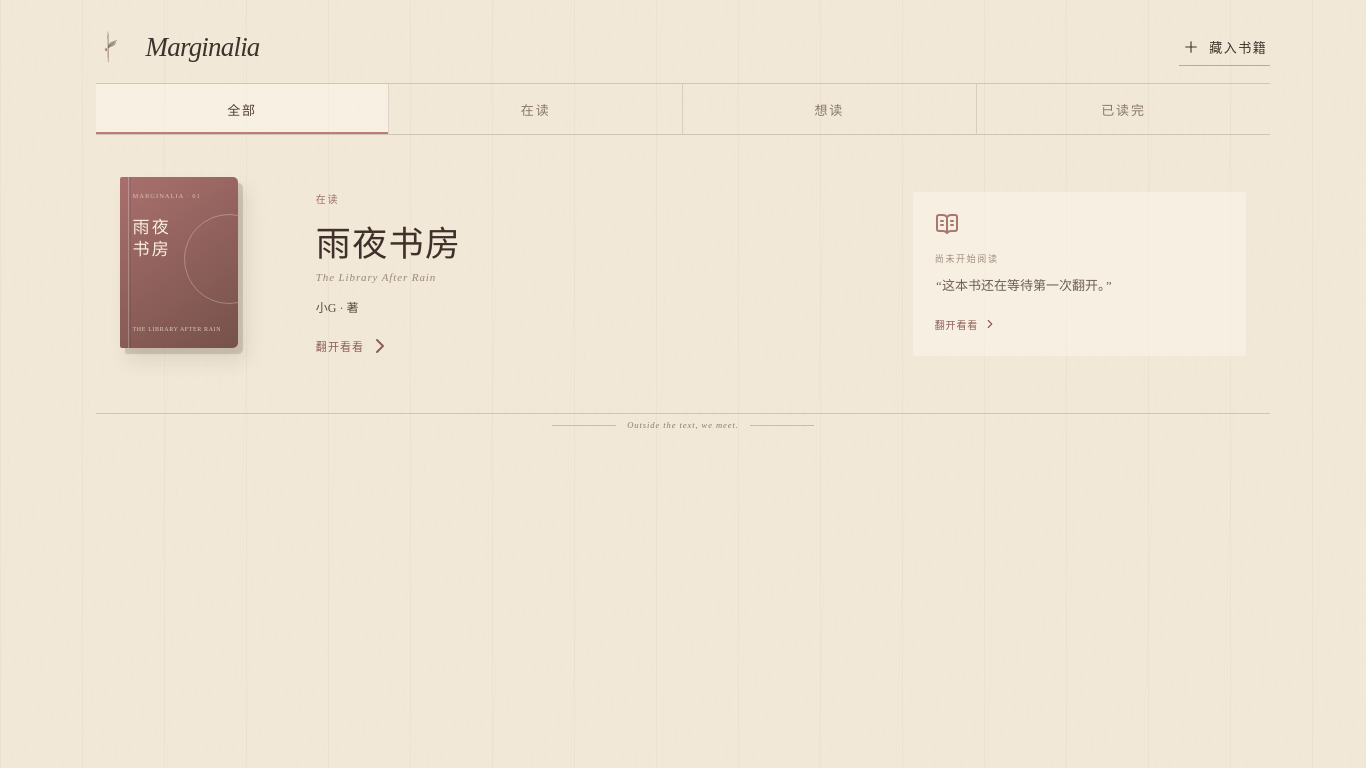
Test: Marginalia visual prototype › opens a book room from the cover and continues into the reader
Expected: the button with aria-label "打开《雨夜书房》" is shown, [316,184,849,364]
Expected: the text "Outside the text, we meet." is shown, [627,420,739,430]
Click the button with aria-label "查看《雨夜书房》的书籍档案". click: [186, 274]
box: [120,177,252,371]
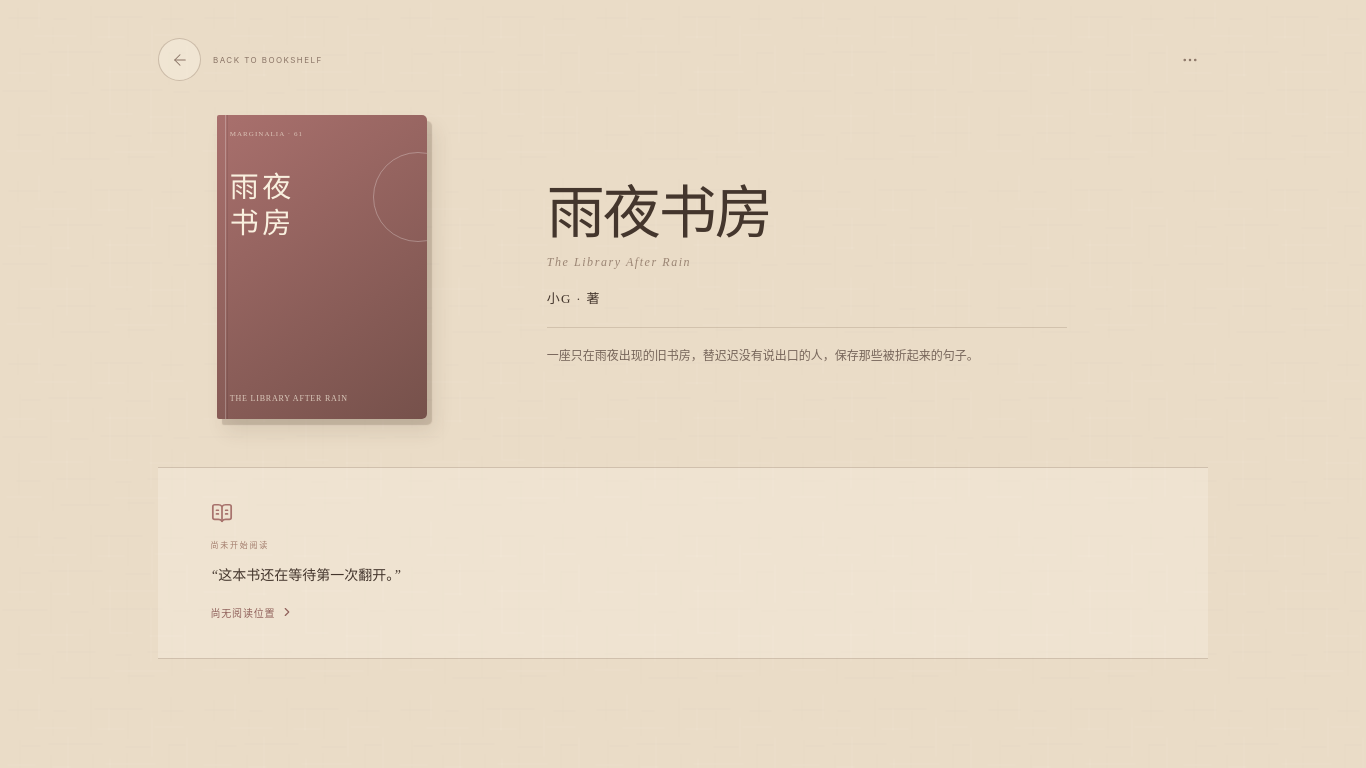
Click the button "一座只在雨夜出现的旧书房，替迟迟没有说出口的人，保存那些被折起来的句子。". click: [807, 348]
box: [547,327,1067,368]
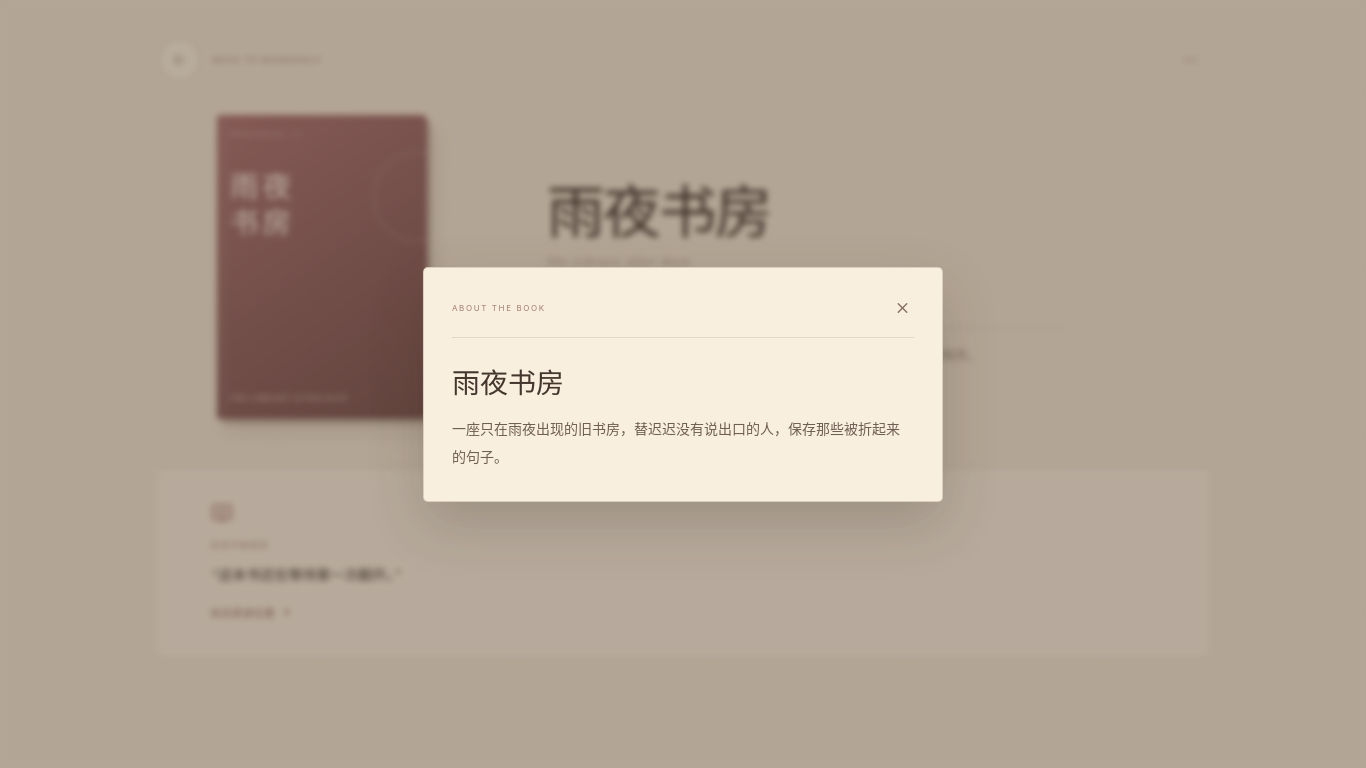
Result: the dialog "雨夜书房" is shown at [423,266,943,502]
Click the button named "关闭完整简介". click: [902, 308]
box: [891,292,914,322]
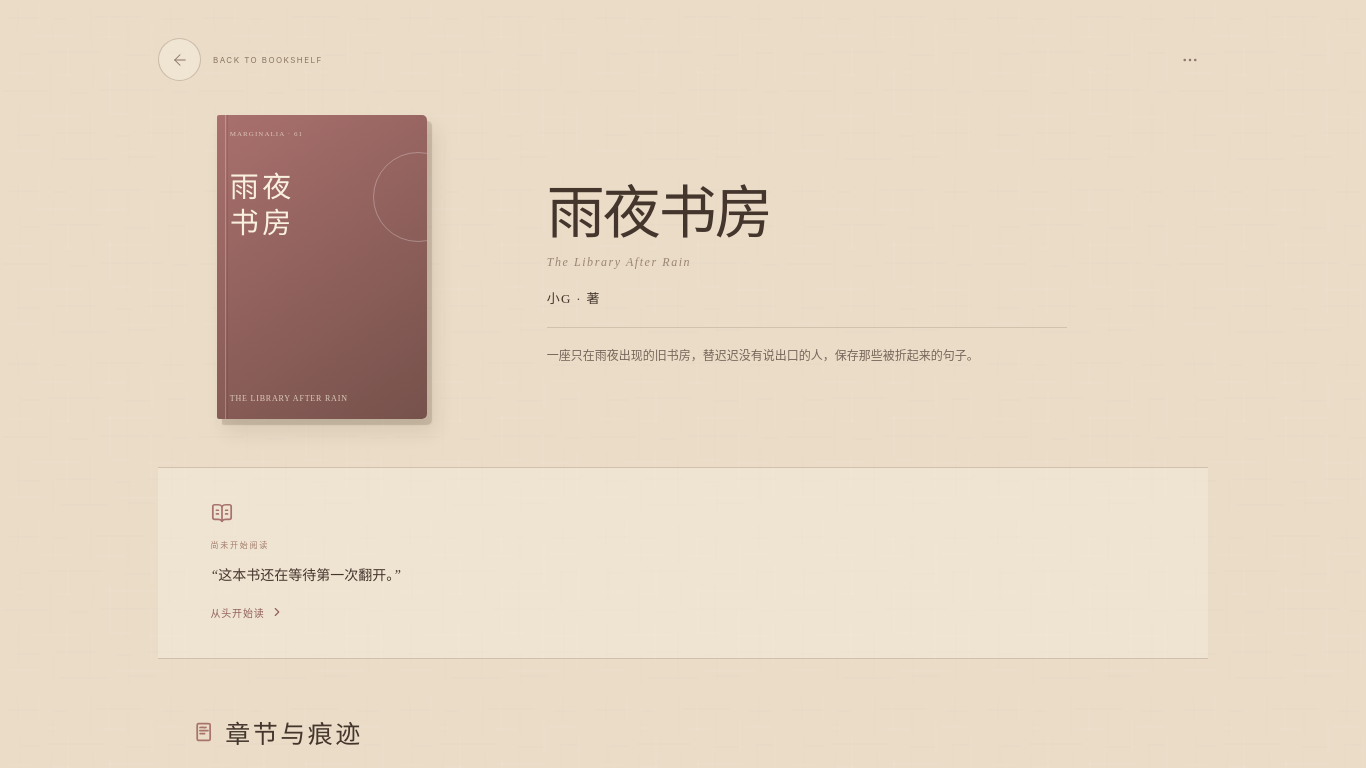
Click the button "尚未开始阅读 这本书还在等待第一次翻开。 从头开始读". click: [683, 563]
box: [158,468,1208,658]
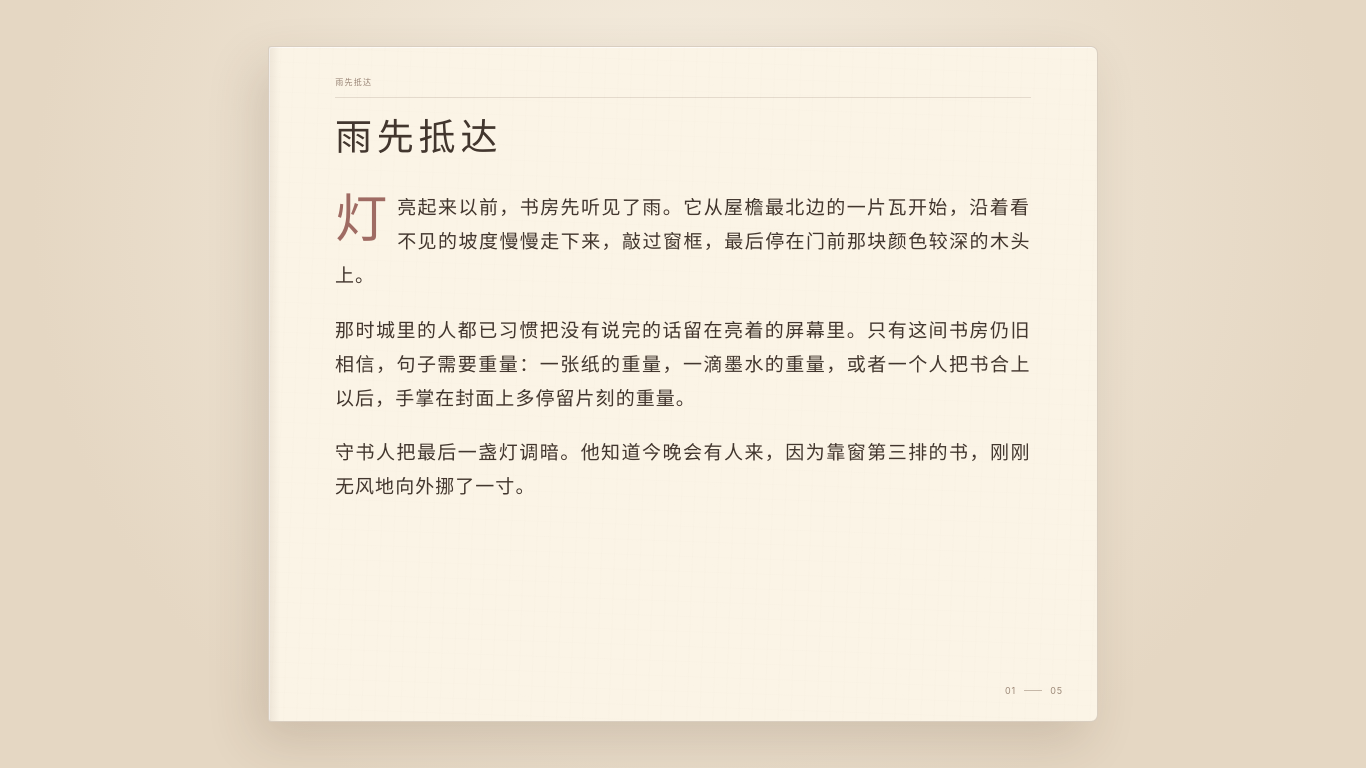
Result: the heading "雨先抵达" is shown at [335,117,502,158]
Result: the element named "第 1 页，共" is shown at [1005,685,1063,696]
